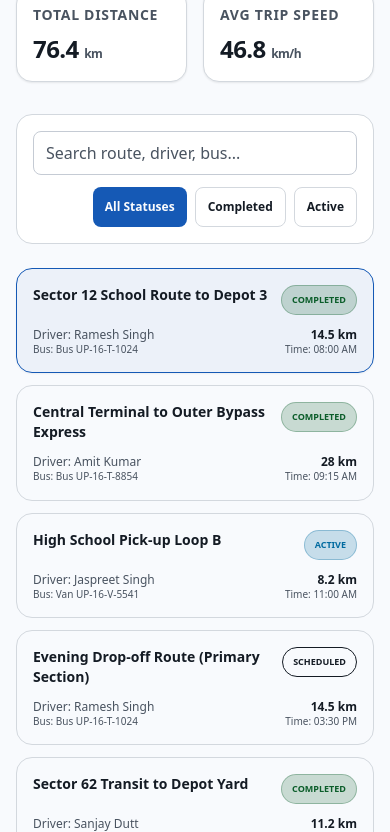
Test: TripsPage MVP Component Tests › updates selected details panel when a list item is selected
(page scrolled)
# First is mobile card, second is desktop table row. Click either.
Click the text "Central Terminal to Outer Bypass Express". click: (153, 422)
box: top-left (33, 402), bottom-right (273, 442)
(page scrolled)
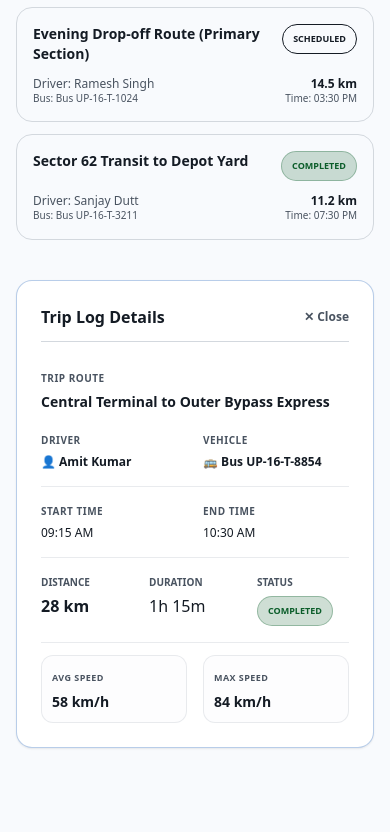
Result: the text "👤 Amit Kumar" is shown at top-left (41, 453), bottom-right (132, 470)
Result: the text "🚌 Bus UP-16-T-8854" is shown at top-left (203, 453), bottom-right (322, 470)
Result: the text "58 km/h" is shown at top-left (52, 692), bottom-right (109, 711)
